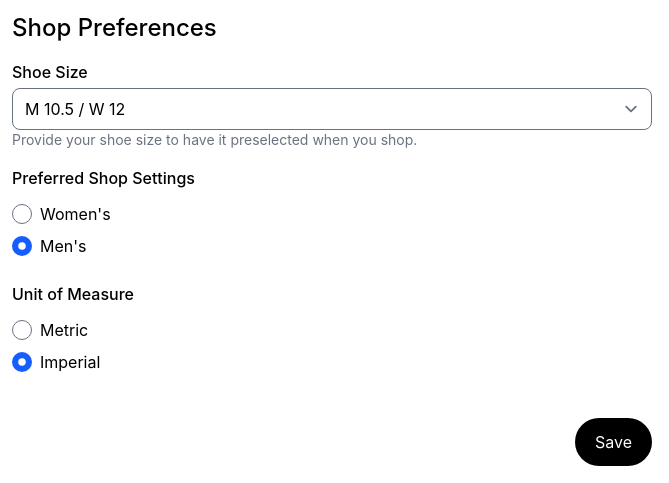
Test: checks Women's and unchecks Men's when Women's is selected
Click the radio button labelled "Women's": [22, 214] box [12,204,32,224]
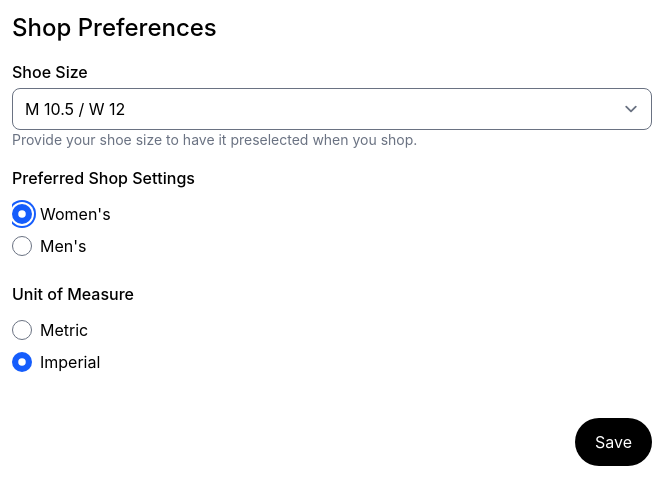
Check: the radio button labelled "Women's" is checked, box [12,204,32,224]
Check: the radio button labelled "Men's" is not checked, box [12,236,32,256]
